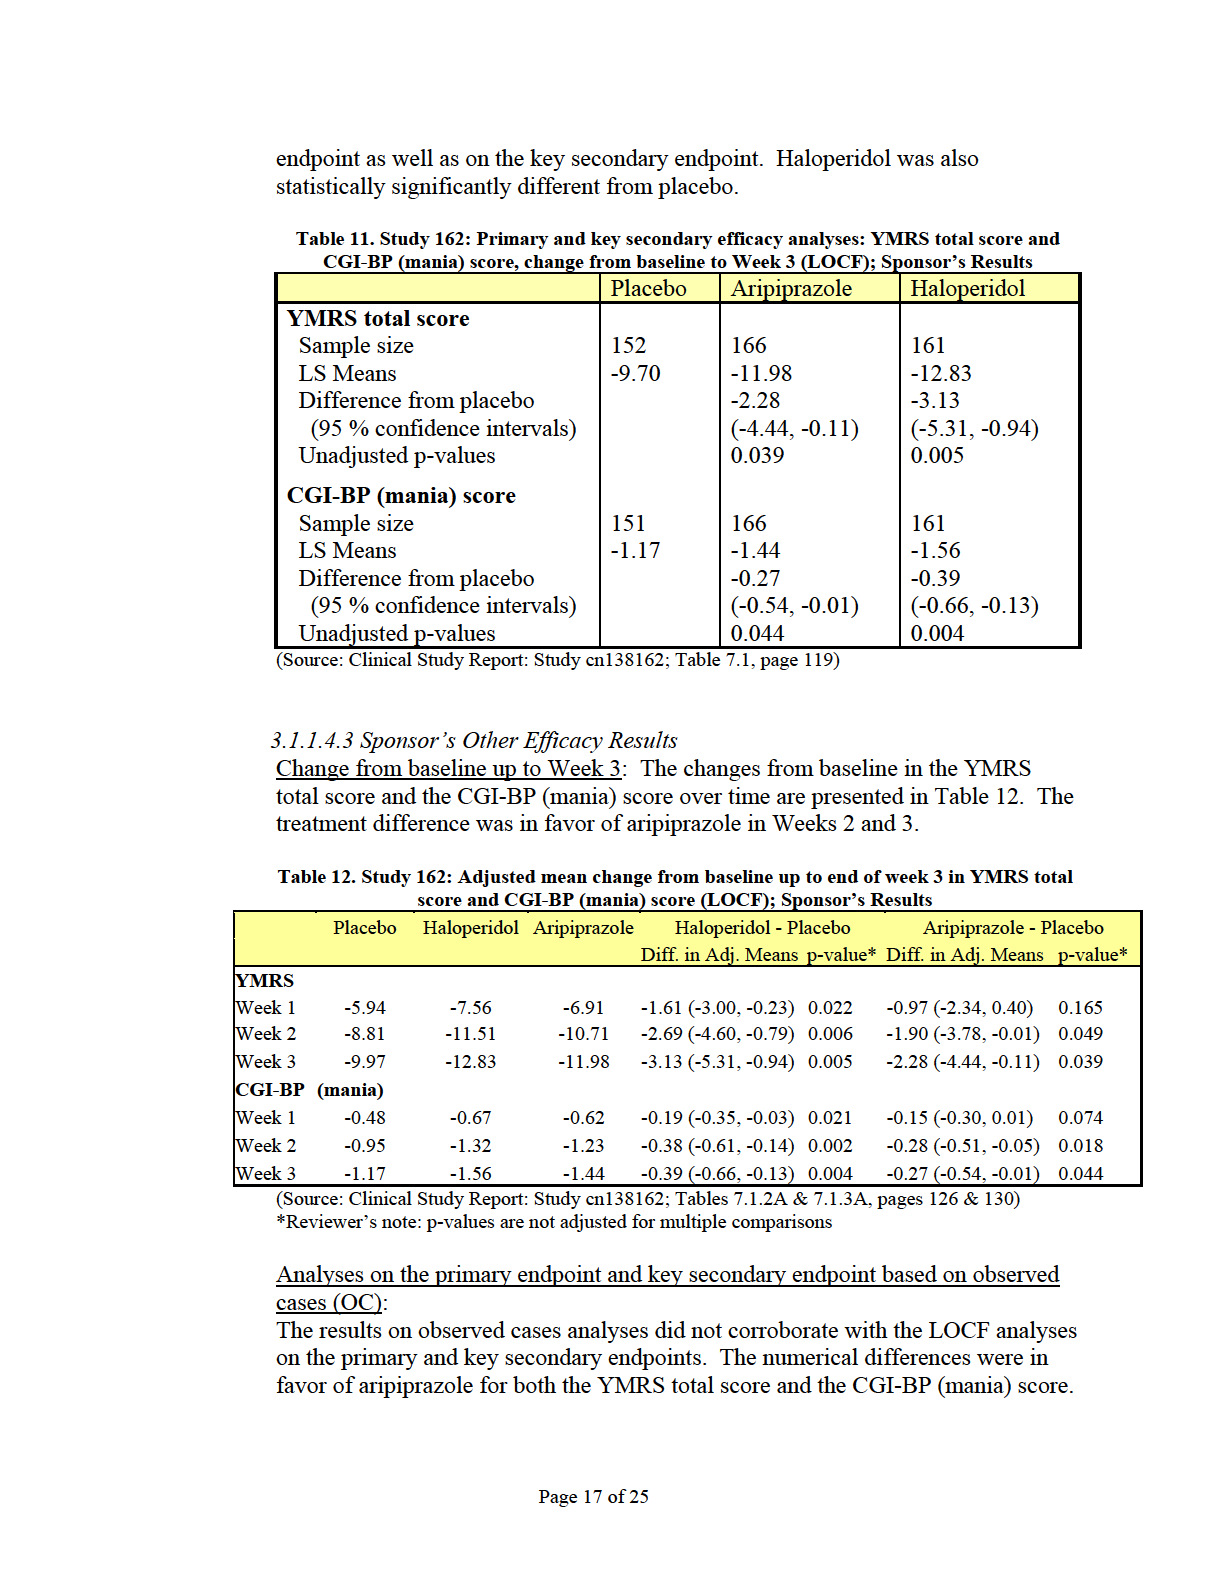partial_lined: (273, 271, 1083, 651), (230, 909, 1146, 1191)
